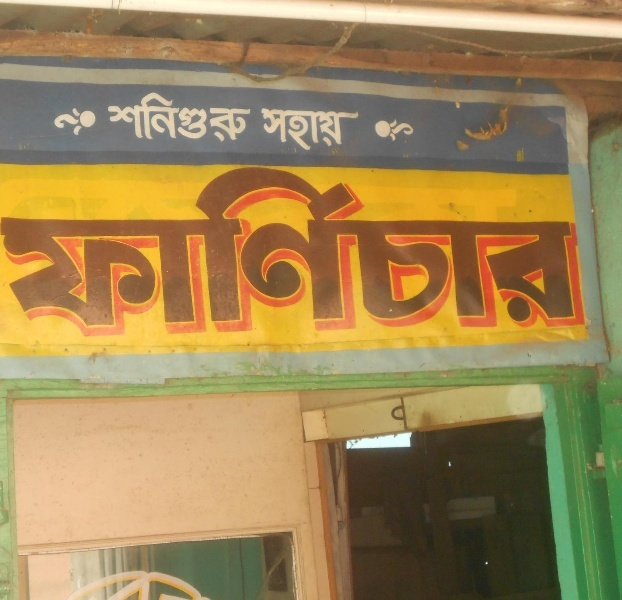text: (17, 165, 32, 338), (33, 165, 48, 338), (49, 165, 64, 338), (65, 165, 80, 338), (81, 165, 96, 338), (97, 165, 112, 338), (113, 165, 128, 338), (129, 165, 144, 338), (145, 165, 160, 338), (161, 165, 176, 338), (177, 165, 192, 338), (193, 165, 208, 338), (209, 165, 224, 338), (225, 165, 240, 338), (241, 165, 256, 338), (257, 165, 272, 338), (273, 165, 288, 338), (289, 165, 304, 338), (305, 165, 320, 338), (321, 165, 336, 338), (337, 165, 352, 338), (353, 165, 368, 338), (369, 165, 384, 338), (385, 165, 400, 338), (401, 165, 416, 338), (417, 165, 432, 338), (433, 165, 448, 338), (449, 165, 464, 338), (465, 165, 480, 338), (481, 165, 496, 338), (497, 165, 512, 338), (513, 165, 528, 338), (529, 165, 544, 338), (545, 165, 560, 338), (561, 165, 576, 338), (2, 165, 16, 338), (577, 165, 587, 338), (113, 92, 128, 144), (129, 92, 144, 144), (145, 92, 160, 144), (161, 92, 176, 144), (177, 92, 192, 144), (193, 92, 208, 144), (209, 92, 224, 144), (225, 92, 240, 144), (273, 108, 288, 151), (289, 108, 304, 151), (305, 108, 320, 151), (321, 108, 336, 151), (337, 108, 352, 151), (241, 92, 252, 144), (261, 108, 272, 151), (401, 399, 412, 430), (353, 108, 360, 151), (392, 399, 400, 430), (108, 92, 112, 144)
